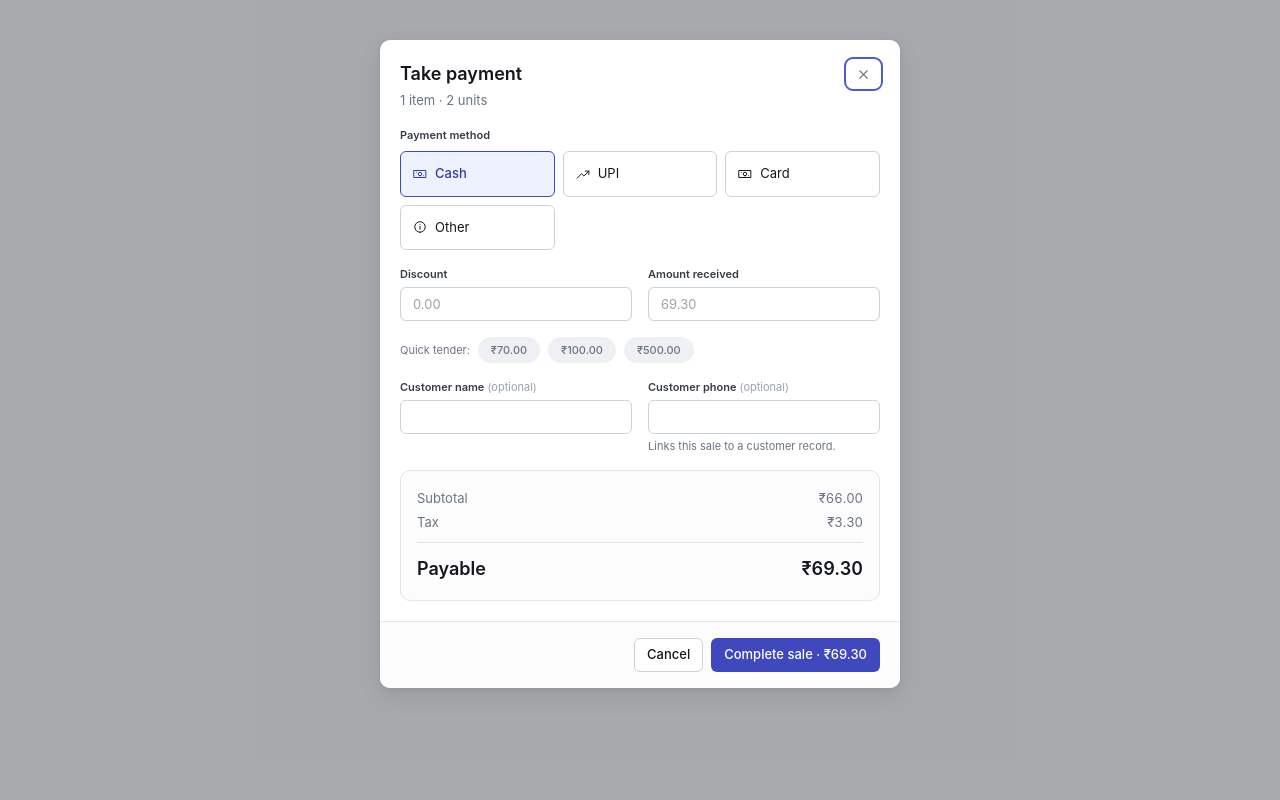
it: Checkout modal › subtracts a discount from the total
Type "9.30" into the number field labelled "Discount" at (516, 304), box [400, 286, 632, 320]
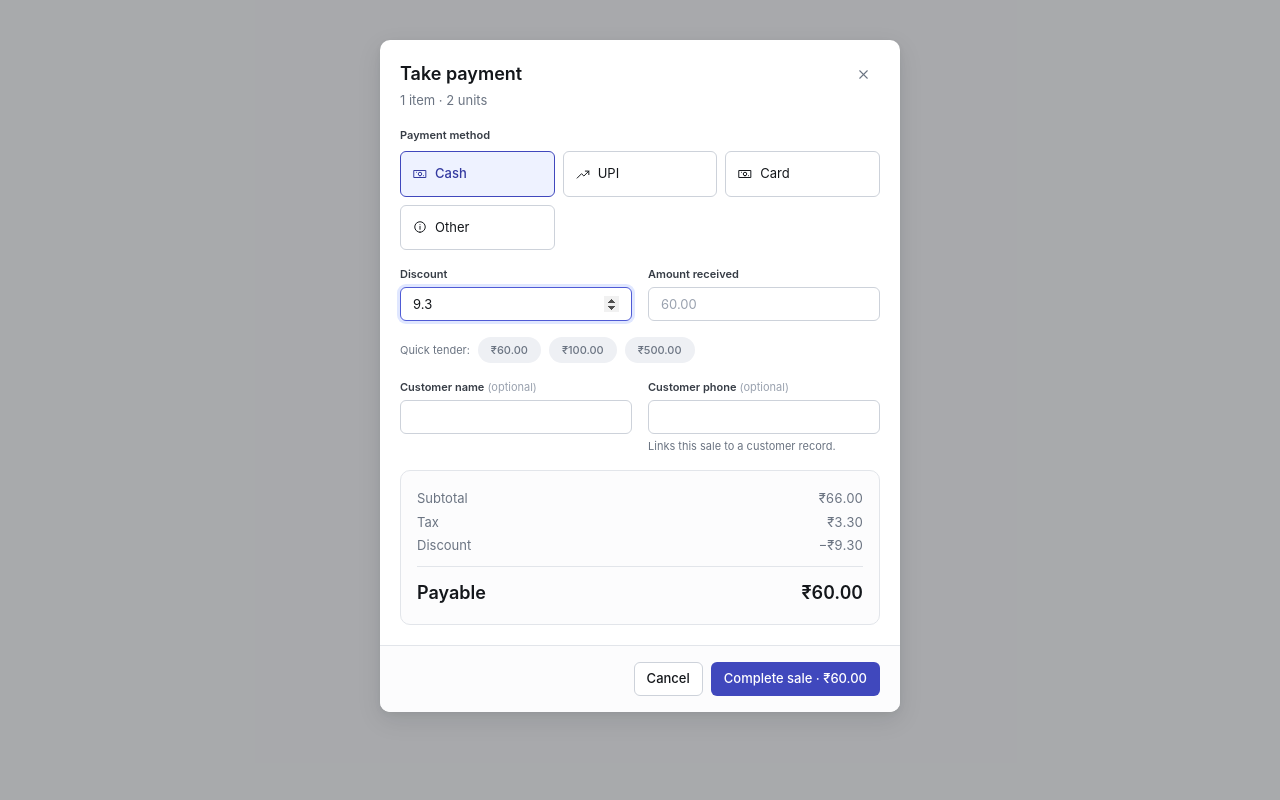
Expected: the button "Complete sale · ₹60.00" is shown, [711, 662, 880, 696]
